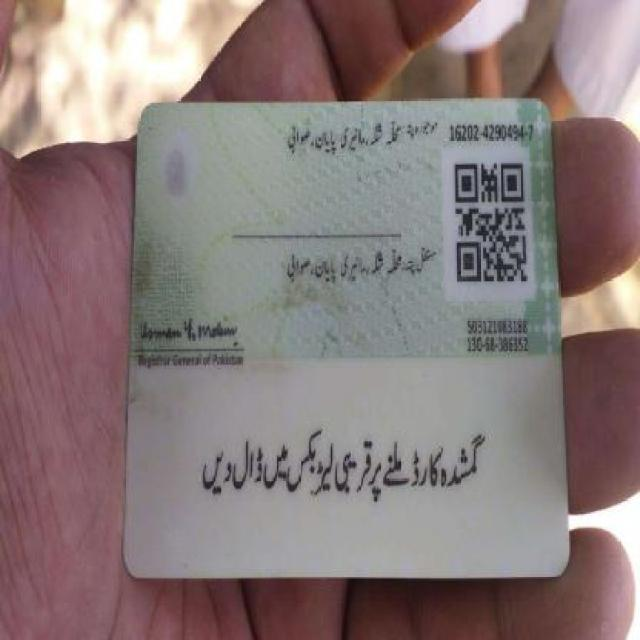Back: (129, 97, 571, 585)
